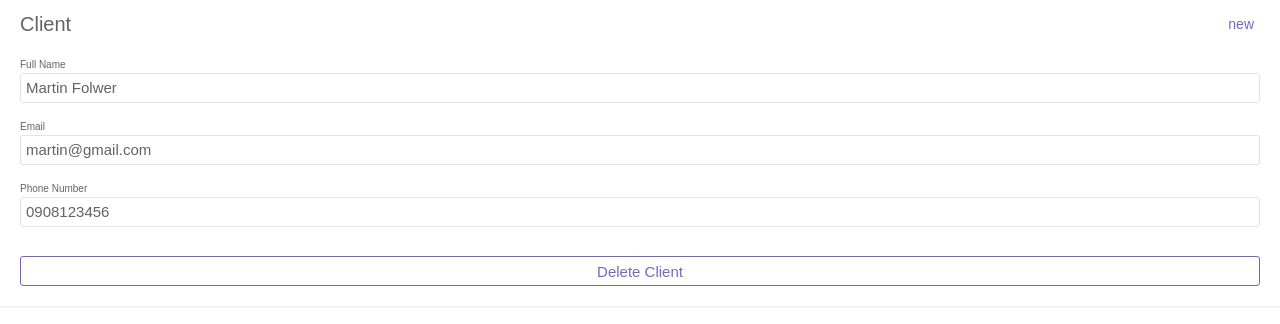
Scenario: selects next client if the currently selected is deleted
Click the button with test id "delete-client": (640, 271) [20, 256, 1260, 286]
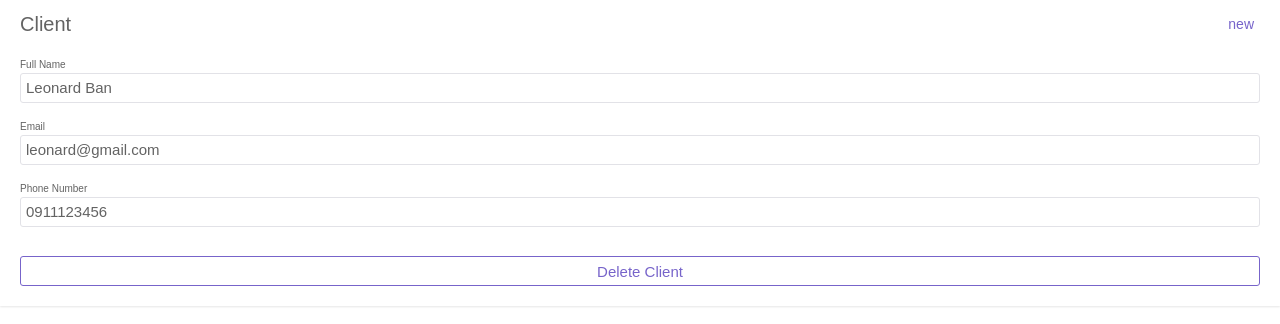
Expected: the field labelled "Full Name" holds "Leonard Ban", [20, 73, 1260, 103]
Expected: the field labelled "Email" holds "leonard@gmail.com", [20, 135, 1260, 165]
Expected: the field labelled "Phone Number" holds "0911123456", [20, 197, 1260, 227]
